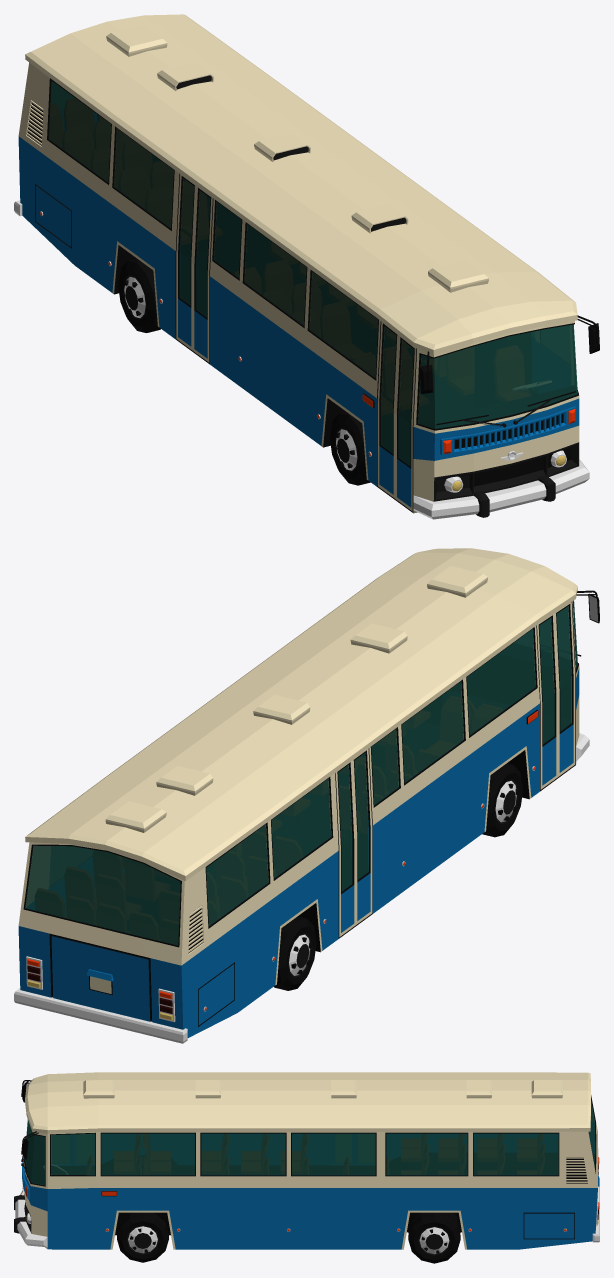
Rendered from CityBus_03.FBX.
3 views of the same model, one above another, from view 1: azimuth 30°, elevation 25°; view 2: azimuth 150°, elevation 25°; view 3: azimuth 270°, elevation 25° (orthographic). The views are drawn at different scales.
Parts seen in each view (by area): view 1: CityBus_03, interior, bumper_f, wheels_b_r, wheel_f_r, grill, lights; view 2: CityBus_03, interior, bumper_b, wheels_b_r, wheel_f_r, lights; view 3: CityBus_03, interior, wheels_b_l, wheels_f_l, bumper_f.
Boxes of the visible parts, x1,y1,x2,y2 form: CityBus_03: (18, 14, 579, 513); interior: (49, 81, 577, 465); bumper_f: (413, 459, 589, 519); wheels_b_r: (118, 258, 160, 332); wheel_f_r: (330, 411, 370, 485); grill: (451, 409, 567, 453); lights: (40, 211, 575, 492); CityBus_03: (18, 548, 579, 1037); interior: (26, 602, 577, 945); bumper_b: (14, 988, 187, 1043); wheels_b_r: (274, 916, 316, 990); wheel_f_r: (482, 763, 522, 837); lights: (26, 709, 538, 1022); CityBus_03: (23, 1072, 599, 1249); interior: (25, 1104, 594, 1184); wheels_b_l: (408, 1212, 460, 1263); wheels_f_l: (117, 1212, 168, 1262); bumper_f: (14, 1190, 47, 1247).
Bounding box in the file's own units: 32.27 × 37.33 × 132.
